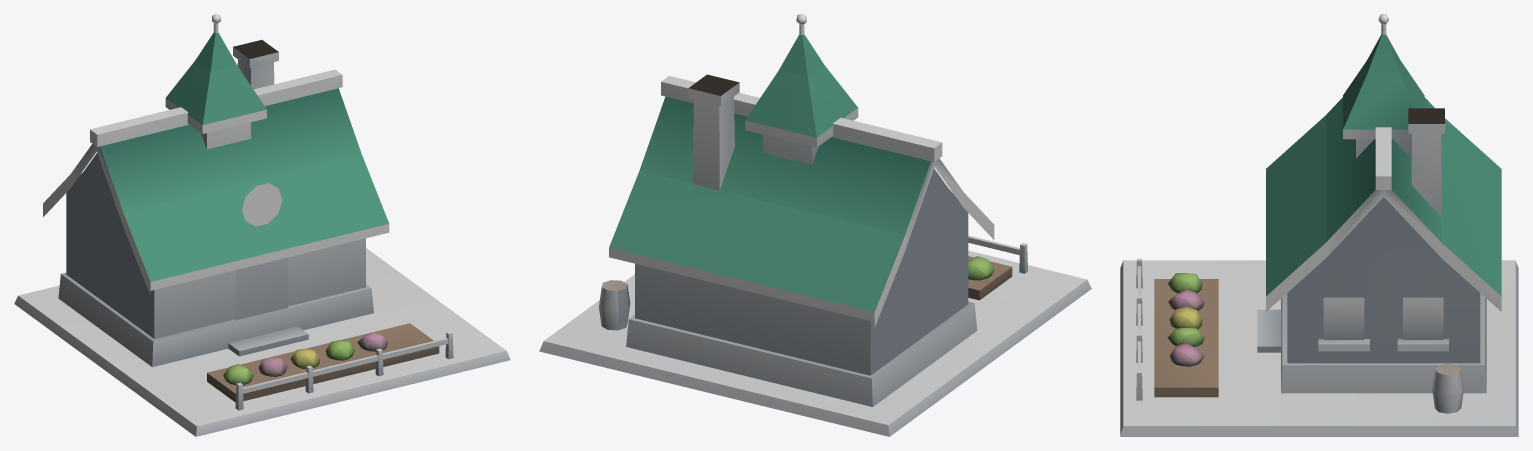
File: hospital_t3.glb
The picture shows the model from 3 angles, left to right: view 1: azimuth 30°, elevation 25°; view 2: azimuth 150°, elevation 25°; view 3: azimuth 270°, elevation 25°; orthographic projection. The views are drawn at different scales.
Visible parts, largest first — view 1: hospital_t3; view 2: hospital_t3; view 3: hospital_t3.
Boxes of the visible parts, x1,y1,x2,y2 form: hospital_t3: (14,14,510,436); hospital_t3: (539,14,1091,436); hospital_t3: (1120,14,1518,436).
Bounding box in the file's own units: 1.86 × 1.7 × 1.86.
